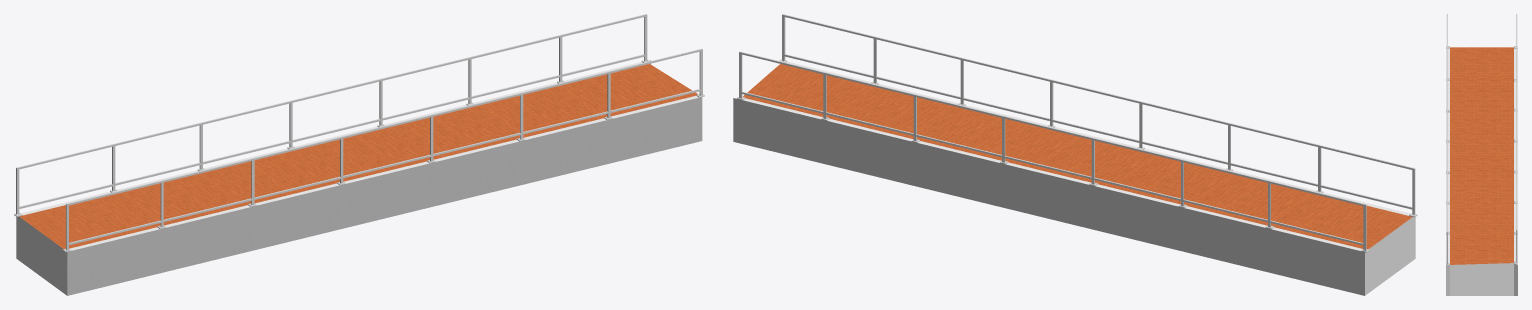
File: 1_floor_hall_sized.glb
The picture shows the model from 3 angles, left to right: view 1: azimuth 30°, elevation 25°; view 2: azimuth 150°, elevation 25°; view 3: azimuth 270°, elevation 25°; orthographic projection. The views are drawn at different scales.
Parts seen in each view (by area): view 1: Cube_072, Cube_080; view 2: Cube_072, Cube_080; view 3: Cube_072, Cube_080.
Part boxes in pixels (x1=…): Cube_072: x1=16, y1=59, x2=702, y2=295; Cube_080: x1=14, y1=14, x2=704, y2=252; Cube_072: x1=733, y1=61, x2=1415, y2=295; Cube_080: x1=737, y1=14, x2=1417, y2=252; Cube_072: x1=1446, y1=47, x2=1517, y2=295; Cube_080: x1=1446, y1=14, x2=1517, y2=265.
Size of what is drawn, in the model's own units: 15.17 by 2.07 by 2.1.
Materials: 5 (3 with a texture image).
